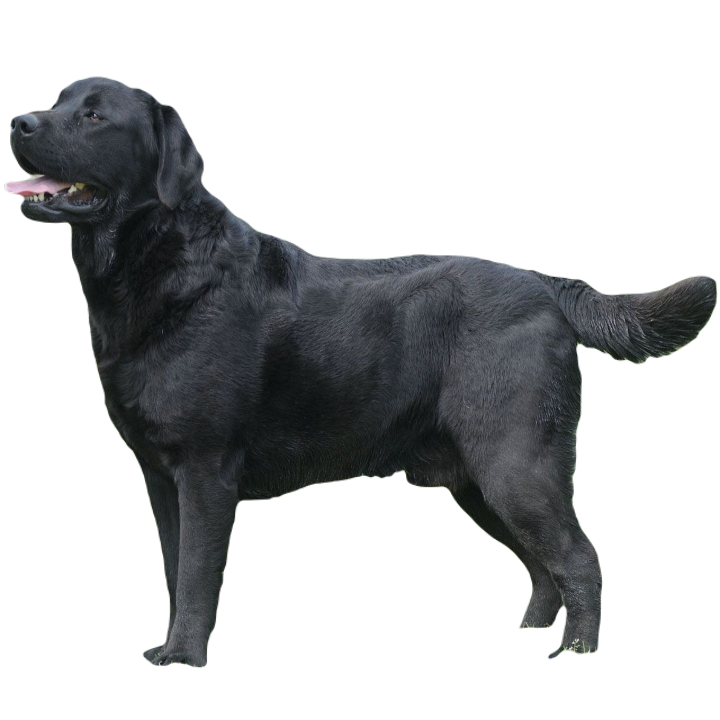Dog: (10, 75, 719, 666)
